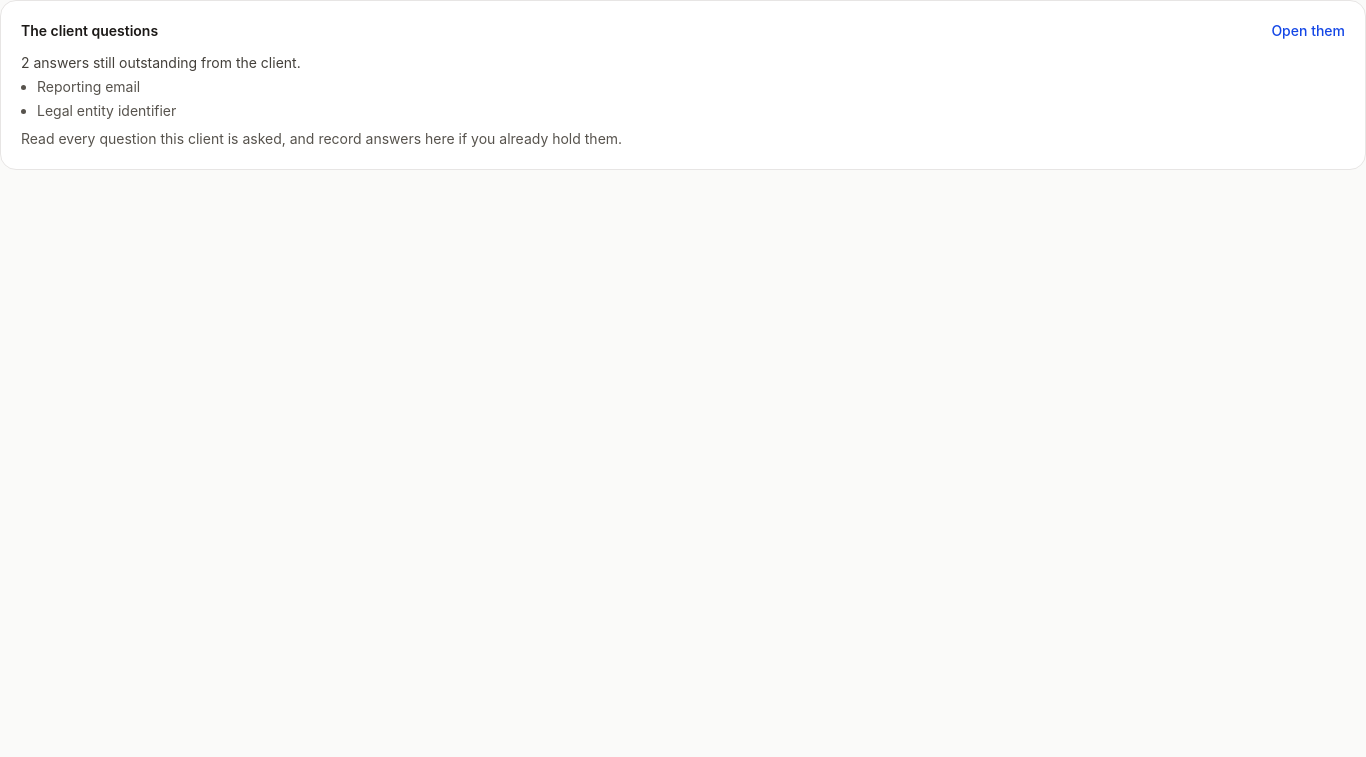
Test case: the client questions panel › says nothing about already-known values when there are none
Click the button "Open them": (1308, 31) [1271,21,1345,41]
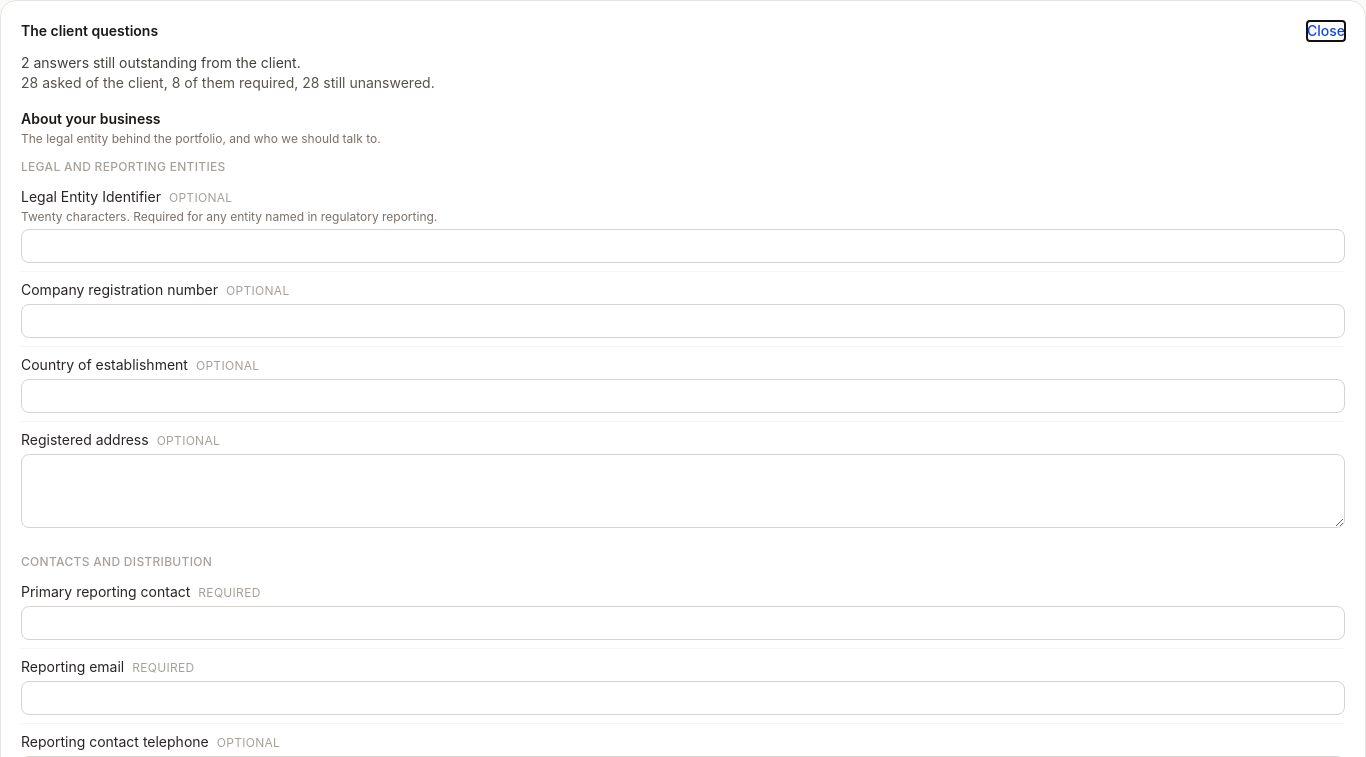
Now the field labelled "Reporting email" is shown, box [21,681,1345,715]
